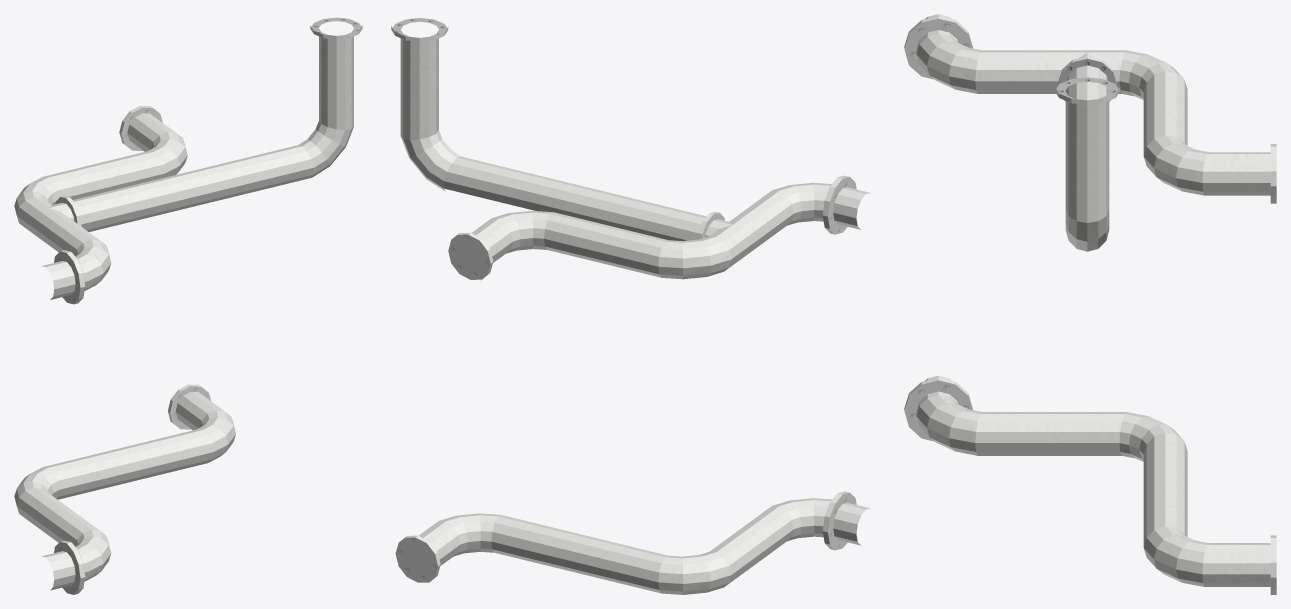
Rendered from zyyg005-geode.glb.
3 renders of one model, left to right at view 1: azimuth 30°, elevation 25°; view 2: azimuth 150°, elevation 25°; view 3: azimuth 270°, elevation 25°, orthographic. The views are drawn at different scales.
Parts seen in each view (by area): view 1: Node; view 2: Node; view 3: Node.
Boxes of the visible parts, x1,y1,x2,y2 form: Node: [14, 17, 362, 594]; Node: [391, 18, 870, 594]; Node: [904, 14, 1276, 594].
Size of the model in its own units: 2.92 by 3.32 by 2.02.
2 materials, 2 textured.
